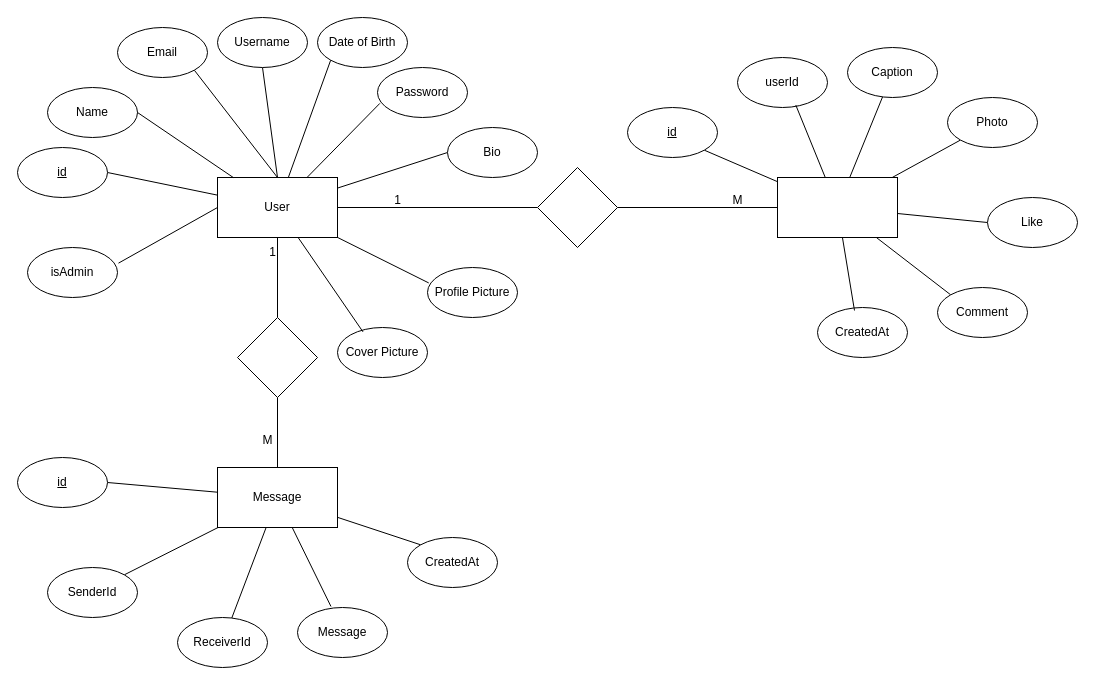
This 1095x685 diagram has some shape labels left out. Here are the shapes that lost their labels. From the top down, the box of each, then its label:
(536, 166, 618, 248): creates
(776, 176, 898, 238): Post
(236, 316, 318, 398): sends
